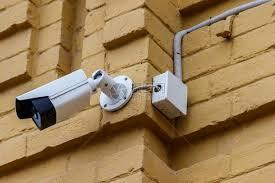tutu: (10, 63, 104, 134)
